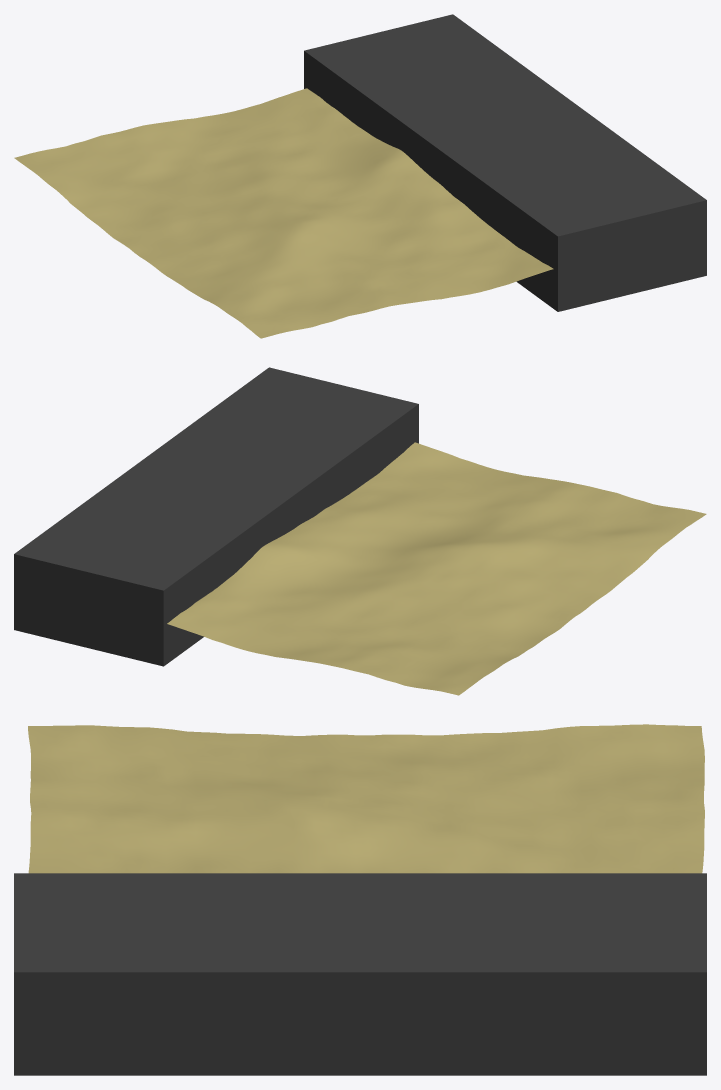
Rendered from chão v1.4.fbx.
3 views of the same model, one above another, from view 1: azimuth 30°, elevation 25°; view 2: azimuth 150°, elevation 25°; view 3: azimuth 270°, elevation 25° (orthographic). The views are drawn at different scales.
Visible parts, largest first — view 1: Cube.001, Cube; view 2: Cube.001, Cube; view 3: Cube, Cube.001.
Part boxes in pixels (box(x1,y1,x2,y2)): Cube.001: box(14, 88, 553, 338); Cube: box(304, 14, 706, 311); Cube.001: box(167, 442, 706, 695); Cube: box(14, 367, 418, 666); Cube: box(14, 873, 706, 1075); Cube.001: box(28, 724, 704, 873).
Size of the model in its own units: 1607 by 262 by 1599.
